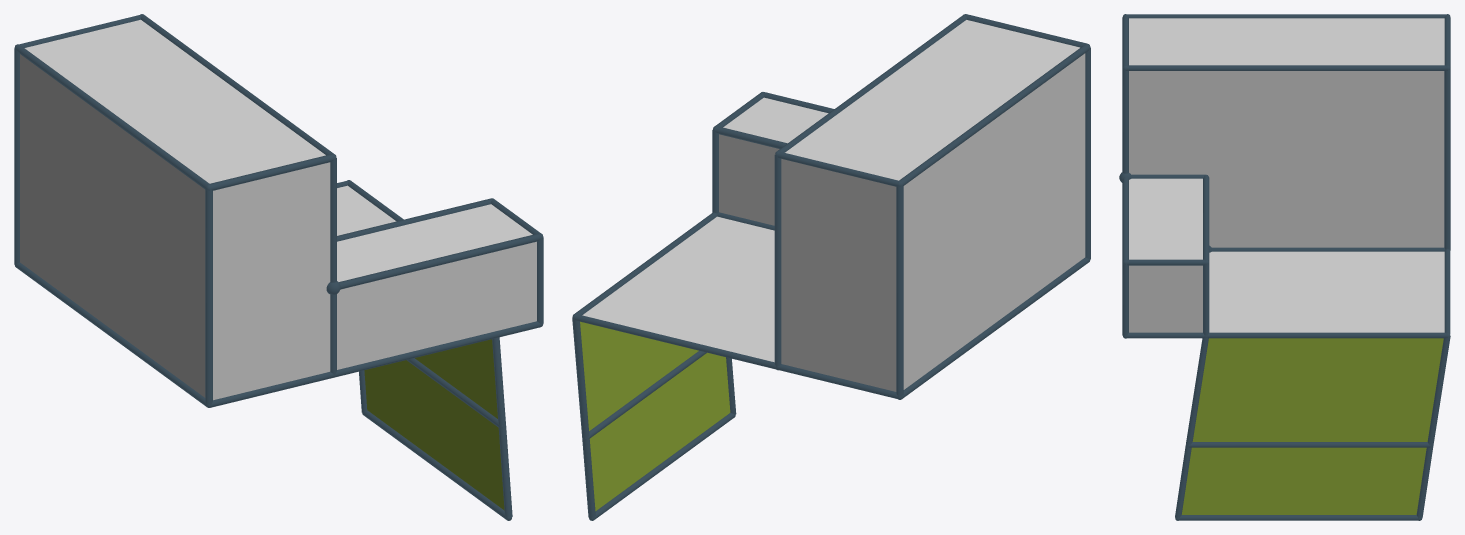
3 views of the same model, side by side, from view 1: azimuth 30°, elevation 25°; view 2: azimuth 150°, elevation 25°; view 3: azimuth 270°, elevation 25° (orthographic). The views are drawn at different scales.
Parts seen in each view (by area): view 1: object 1, Bloom3D Lines; view 2: object 1, Bloom3D Lines; view 3: object 1, Bloom3D Lines.
Boxes of the visible parts, x1,y1,x2,y2 form: object 1: [20, 19, 536, 510]; Bloom3D Lines: [14, 14, 543, 520]; object 1: [580, 20, 1085, 511]; Bloom3D Lines: [572, 14, 1090, 520]; object 1: [1129, 18, 1444, 514]; Bloom3D Lines: [1119, 14, 1450, 520].
Size of the model in its own units: 4.08 by 5.08 by 4.12.
